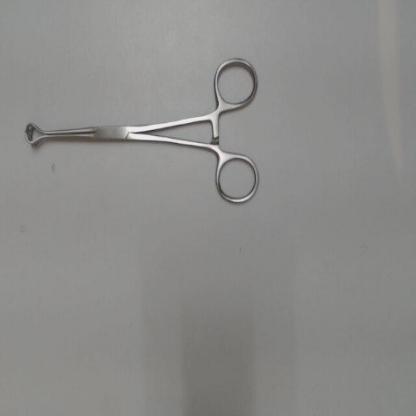Babcock Tissue Forceps: (19, 52, 262, 207)
